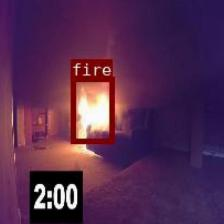fire: (70, 76, 113, 142)
